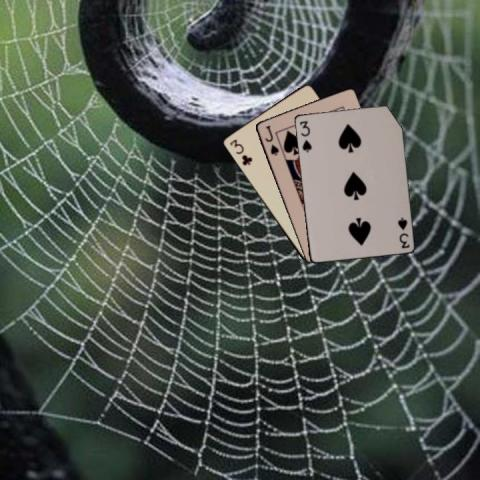3c: (227, 136, 253, 167)
3s: (296, 118, 313, 153), (394, 214, 410, 249)
Js: (262, 122, 280, 157)
